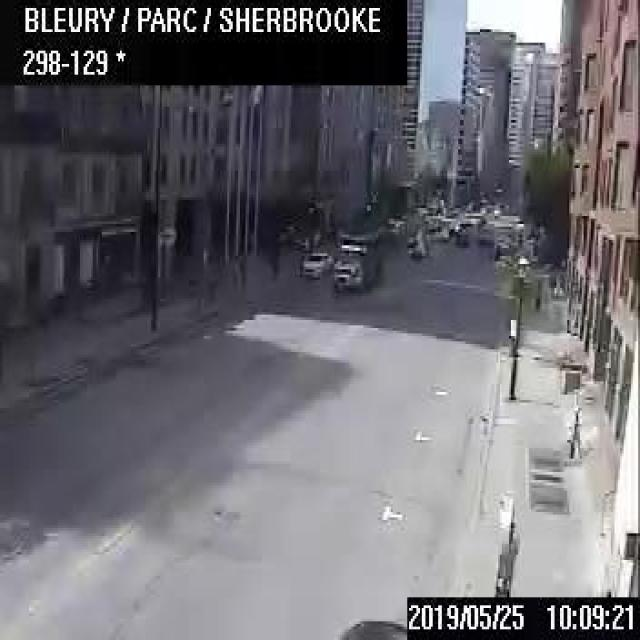vehicle: (332, 231, 376, 290), (340, 616, 405, 637), (302, 250, 332, 276)
